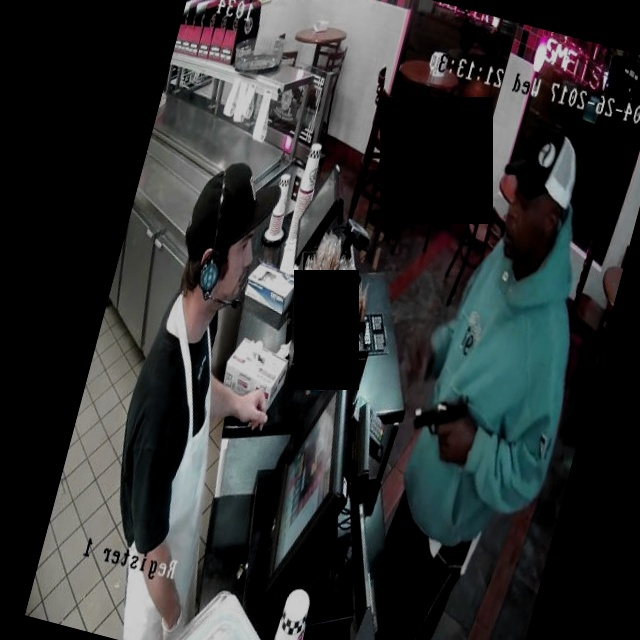gun: (395, 371, 487, 458)
